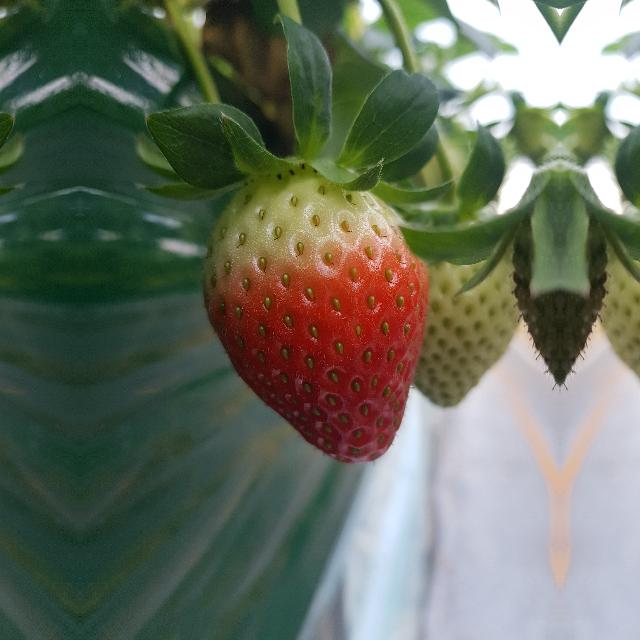Health_75: (199, 162, 429, 466)
